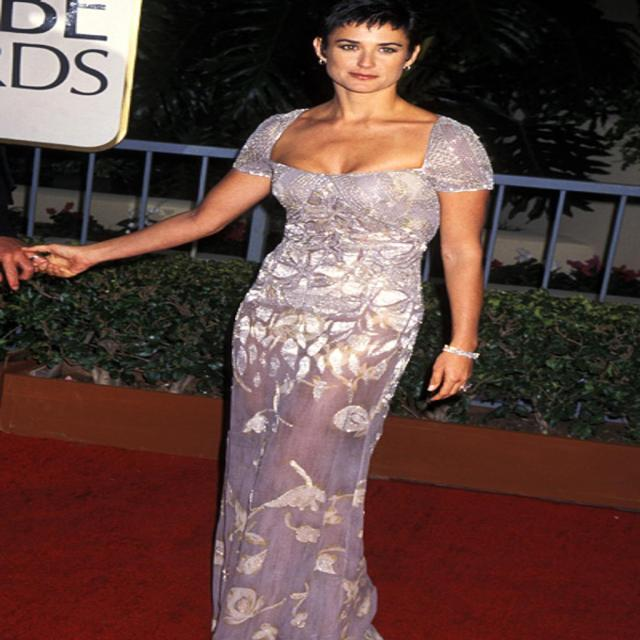Face: (306, 17, 414, 93)
